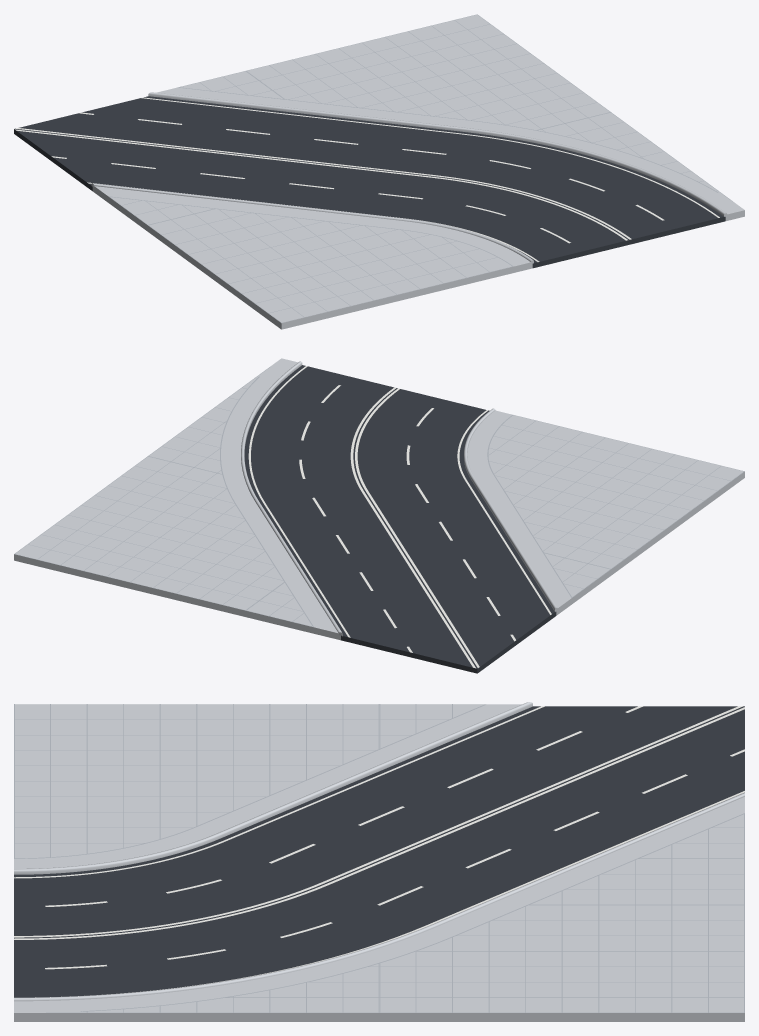
Rendered from avenida_diagonal_curva_esquerda.glb.
3 views of the same model, one above another, from view 1: azimuth 30°, elevation 25°; view 2: azimuth 150°, elevation 25°; view 3: azimuth 270°, elevation 25° (orthographic). The views are drawn at different scales.
Parts seen in each view (by area): view 1: avenida_diagonal_curva_esquerda; view 2: avenida_diagonal_curva_esquerda; view 3: avenida_diagonal_curva_esquerda.
Part boxes in pixels (x1,y1,x2,y2): avenida_diagonal_curva_esquerda: [14, 14, 744, 329]; avenida_diagonal_curva_esquerda: [14, 358, 744, 673]; avenida_diagonal_curva_esquerda: [14, 702, 744, 1021].
Bounding box in the file's own units: 30 × 0.5 × 30.
Materials: 1 (1 with a texture image).
